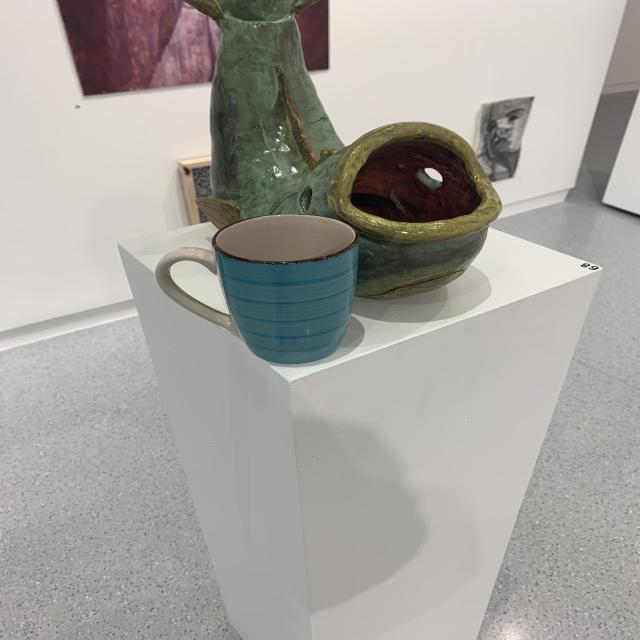Cup: (152, 209, 368, 374)
